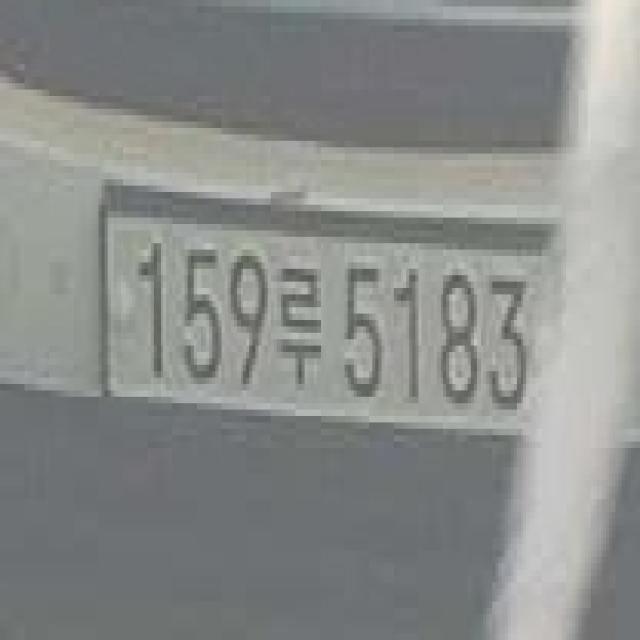plat: (97, 181, 564, 430)
